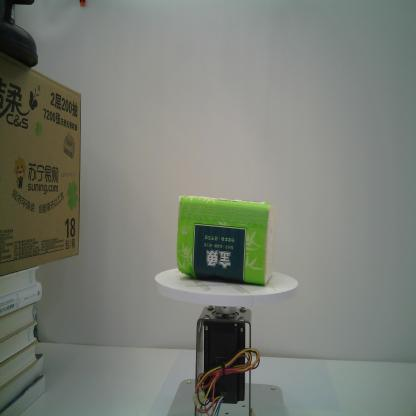Tissue: (176, 194, 276, 286)
